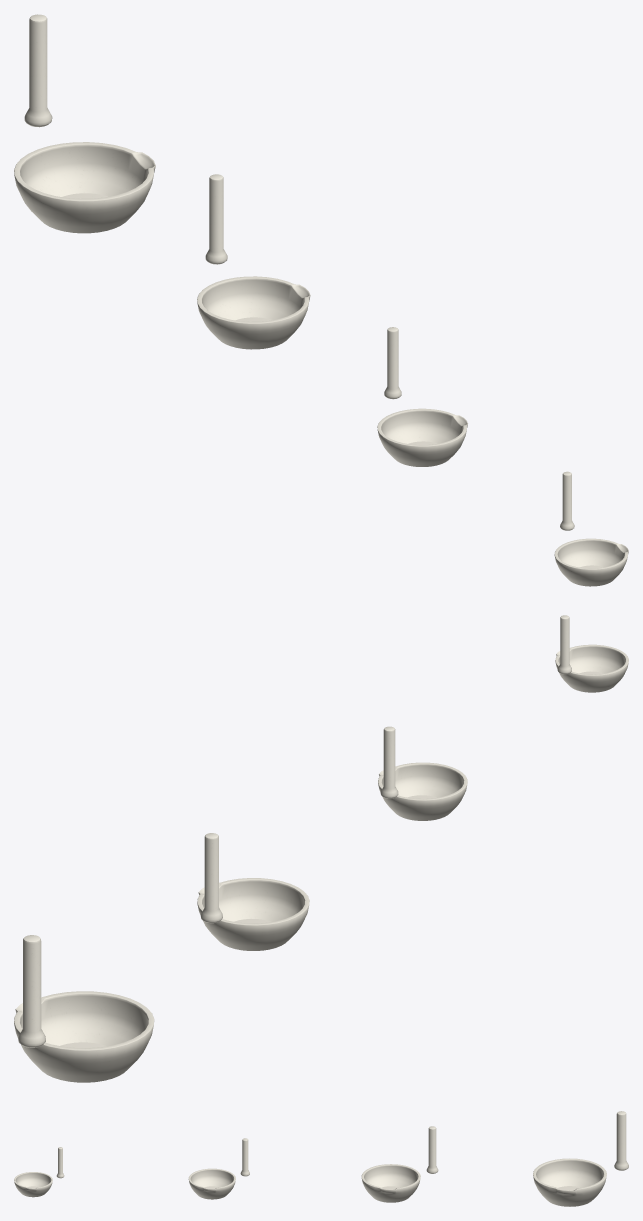
Rendered from Mortar.fbx.
3 renders of one model, top to bottom at view 1: azimuth 30°, elevation 25°; view 2: azimuth 150°, elevation 25°; view 3: azimuth 270°, elevation 25°, orthographic. The views are drawn at different scales.
Visible parts, largest first — view 1: Mortar 16cm, Mortar 13cm, Mortar 10cm, Mortar 8cm, Mortarr 16cm, Mortarr 13cm, Mortarr 10cm; view 2: Mortar 16cm, Mortar 13cm, Mortar 10cm, Mortar 8cm, Mortarr 16cm, Mortarr 13cm, Mortarr 10cm; view 3: Mortar 16cm, Mortar 13cm, Mortar 10cm, Mortar 8cm, Mortarr 16cm, Mortarr 13cm, Mortarr 10cm, Mortarr 8cm.
Part boxes in pixels (box(x1,y1,x2,y2)): Mortar 16cm: box(14, 142, 155, 233); Mortar 13cm: box(197, 276, 310, 349); Mortar 10cm: box(377, 408, 467, 466); Mortar 8cm: box(554, 538, 628, 586); Mortarr 16cm: box(24, 14, 52, 127); Mortarr 13cm: box(205, 174, 227, 264); Mortarr 10cm: box(384, 327, 401, 399); Mortar 16cm: box(14, 991, 154, 1082); Mortar 13cm: box(197, 878, 309, 950); Mortar 10cm: box(378, 762, 467, 820); Mortar 8cm: box(555, 644, 628, 692); Mortarr 16cm: box(18, 935, 45, 1047); Mortarr 13cm: box(200, 833, 222, 923); Mortarr 10cm: box(380, 726, 398, 798); Mortar 16cm: box(533, 1158, 606, 1206); Mortar 13cm: box(361, 1164, 420, 1202); Mortar 10cm: box(188, 1168, 235, 1199); Mortar 8cm: box(14, 1172, 52, 1197); Mortarr 16cm: box(614, 1111, 628, 1170); Mortarr 13cm: box(426, 1126, 438, 1173); Mortarr 10cm: box(240, 1138, 249, 1176); Mortarr 8cm: box(56, 1147, 64, 1178).
Size of the model in its own units: 21.45 by 26.12 by 172.
Materials: 1 (1 with a texture image).
